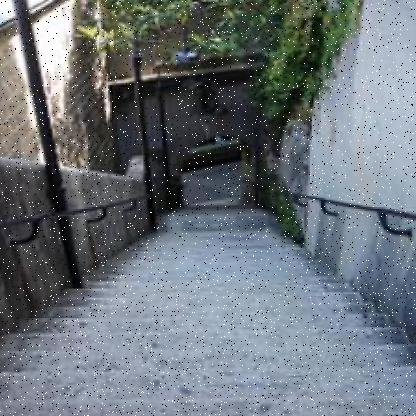stair_down: (38, 289, 340, 409)
